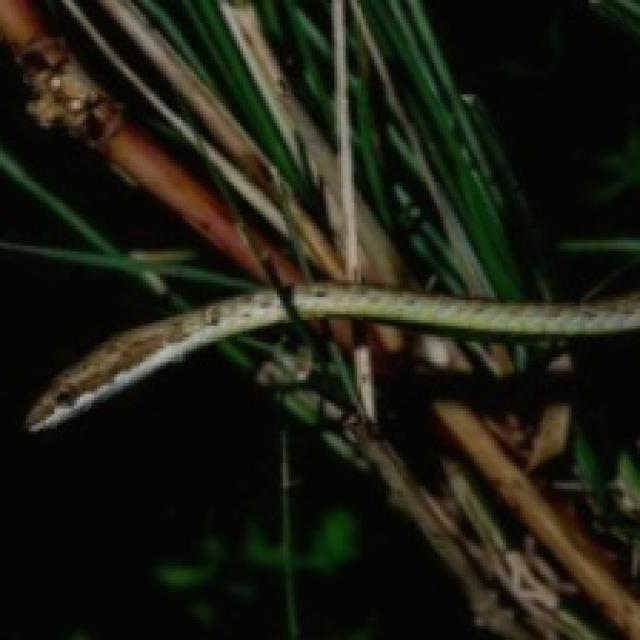philippine whip snake: (26, 289, 286, 429), (26, 291, 283, 429), (291, 283, 637, 334)
